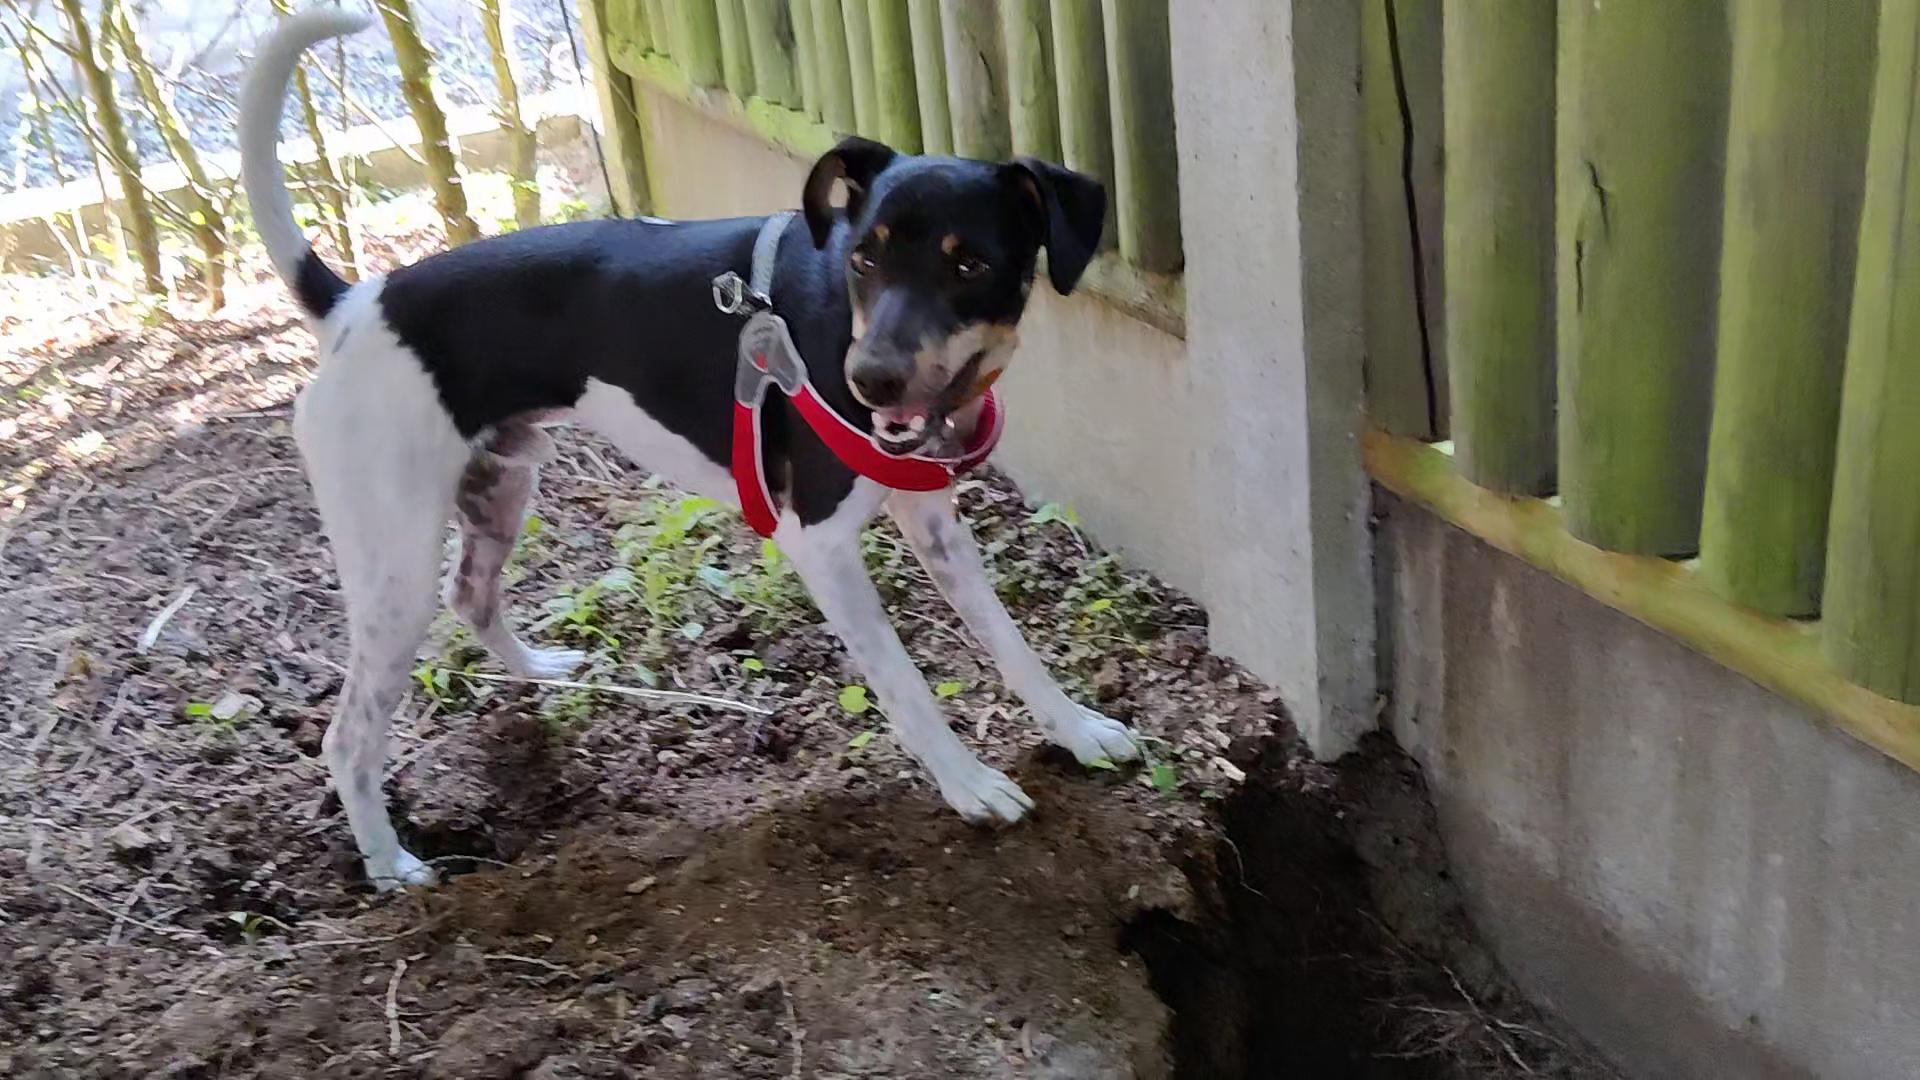Dog: (216, 0, 1156, 911)
